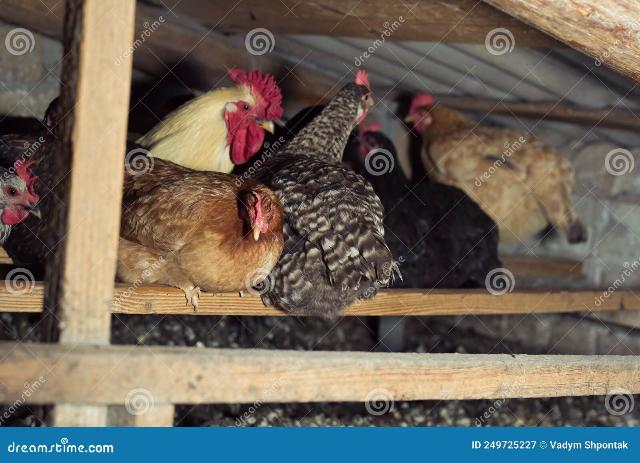Chicken: (265, 69, 406, 321), (405, 94, 590, 247), (117, 156, 289, 306), (354, 121, 502, 287), (135, 63, 285, 177), (0, 160, 46, 244)
